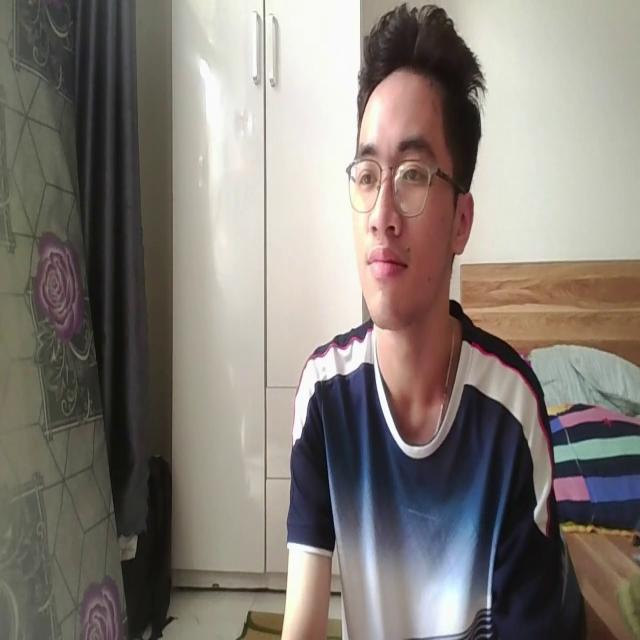student: (273, 6, 562, 640)
